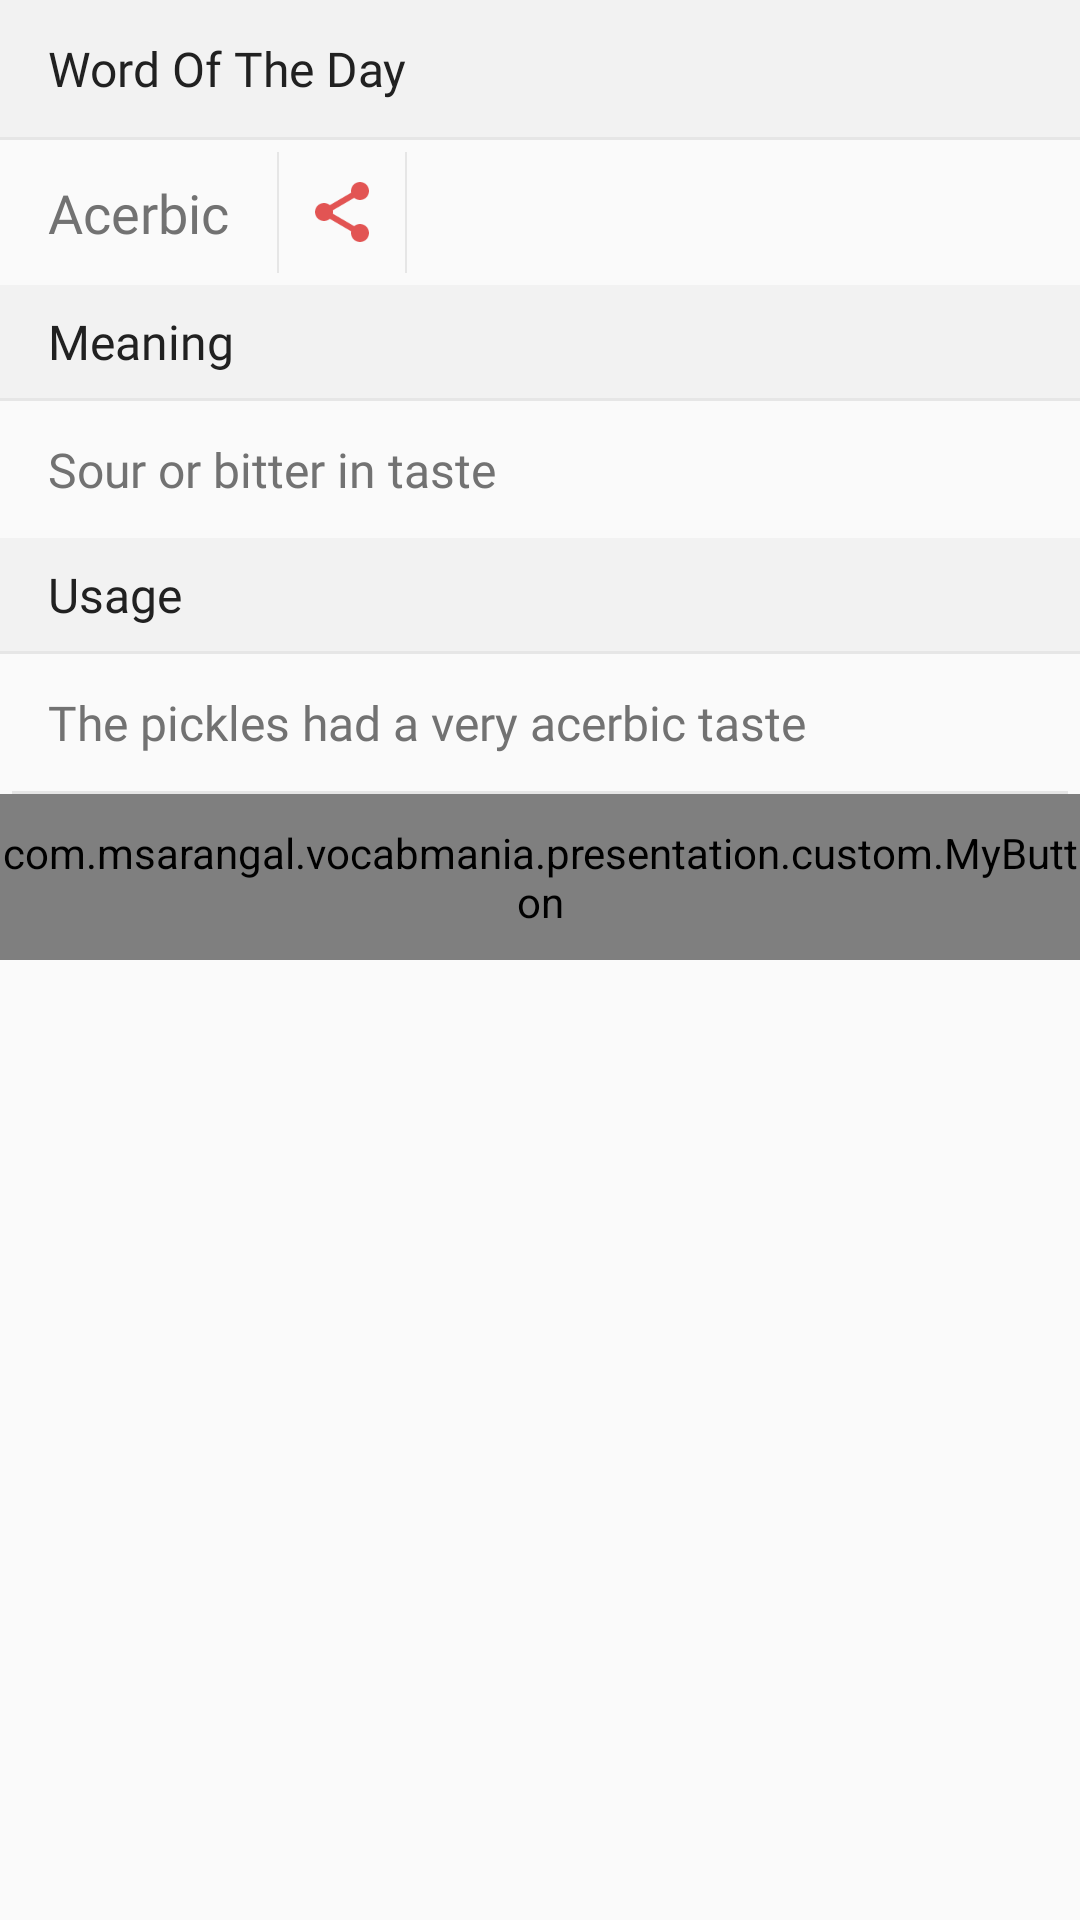

Icons on this 1080 × 1920 Android screen, each with its box as bbox(x1, y1, x2, y2):
share simple: bbox(315, 182, 369, 242)
